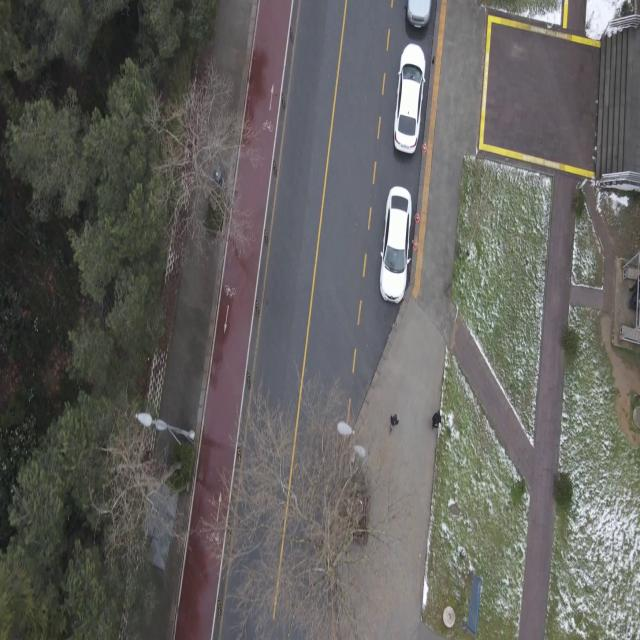p3rson: (628, 274, 640, 300), (389, 410, 399, 435), (431, 410, 441, 430)
